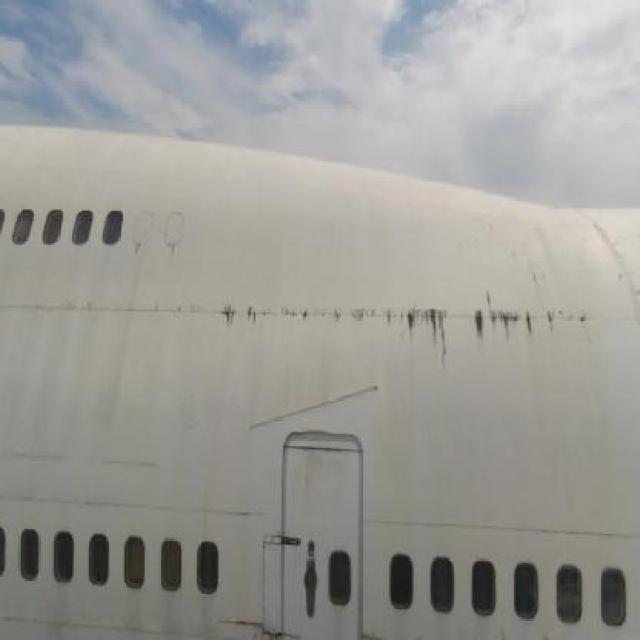Missing-Rivet: (256, 537, 273, 618)
Rust: (206, 282, 608, 393), (503, 241, 559, 301), (231, 611, 294, 640), (170, 244, 181, 274), (133, 240, 144, 258)
Scartch: (0, 442, 169, 484), (592, 216, 640, 319), (301, 446, 357, 519)
